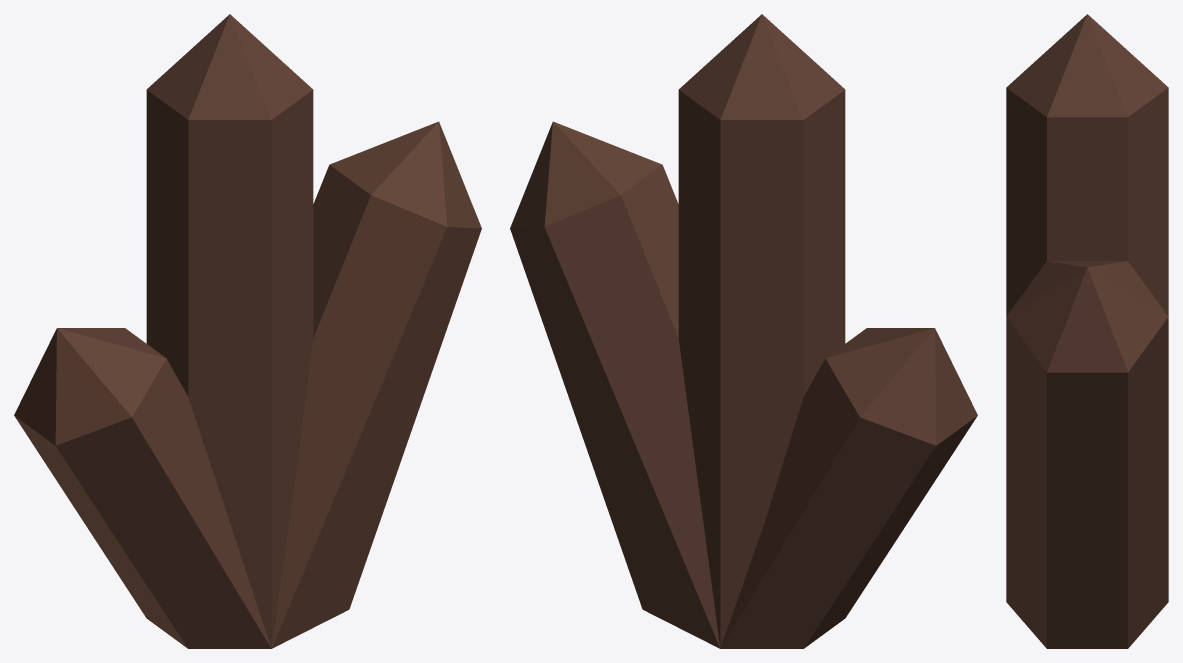
File: brown_cave_crystal.obj
3 views of the same model, side by side, from view 1: azimuth 30°, elevation 25°; view 2: azimuth 150°, elevation 25°; view 3: azimuth 270°, elevation 25° (orthographic). The views are drawn at different scales.
Visible parts, largest first — view 1: main; view 2: main; view 3: main.
Boxes of the visible parts, x1=… form: main: x1=14, y1=14, x2=481, y2=648; main: x1=510, y1=14, x2=977, y2=648; main: x1=1006, y1=14, x2=1168, y2=648.
Bounding box in the file's own units: 0.7381 × 1 × 0.25.
